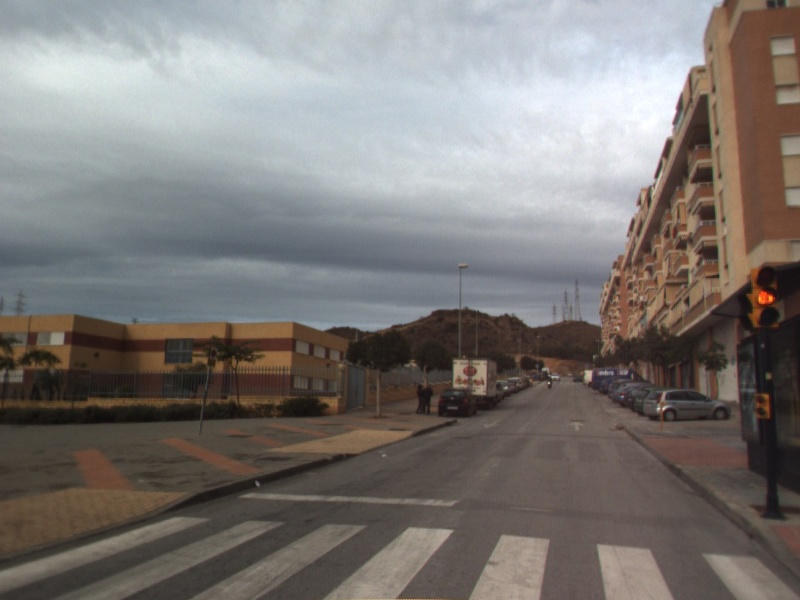STRAIGHT: (567, 420, 588, 433)
